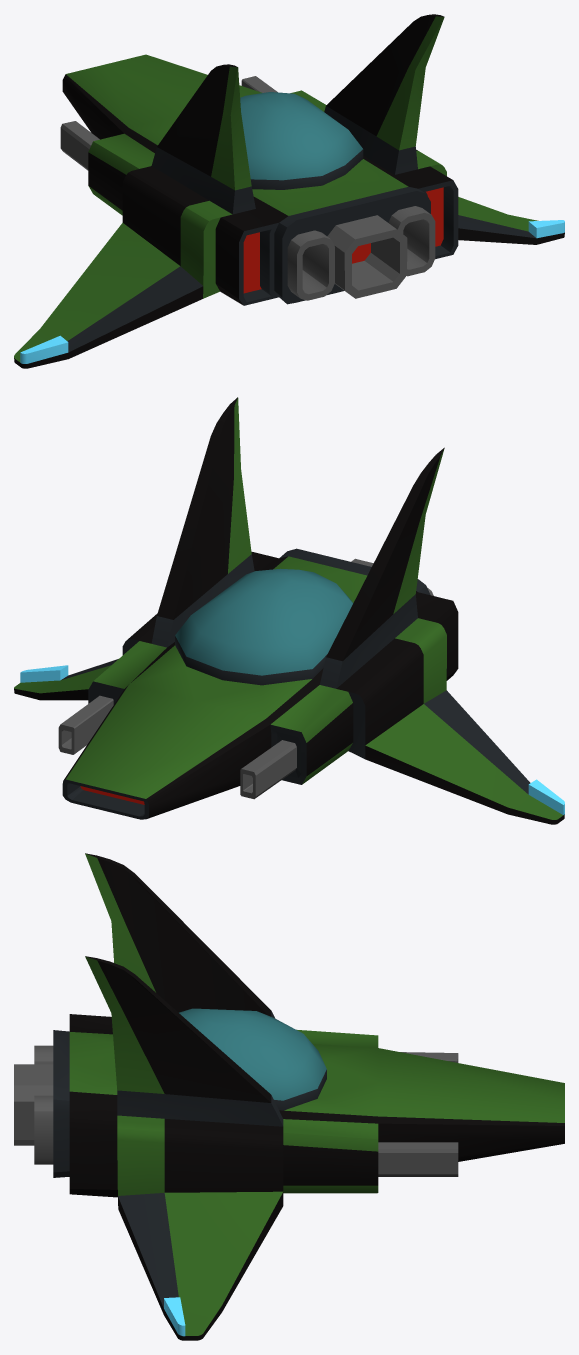
Rendered from Nave protagonista.fbx.
The picture shows the model from 3 angles, top to bottom: view 1: azimuth 30°, elevation 25°; view 2: azimuth 150°, elevation 25°; view 3: azimuth 270°, elevation 25°; orthographic projection.
Parts seen in each view (by area): view 1: Box001; view 2: Box001; view 3: Box001.
Part boxes in pixels (x1=…): Box001: x1=14, y1=14, x2=564, y2=368; Box001: x1=14, y1=397, x2=564, y2=824; Box001: x1=14, y1=853, x2=564, y2=1340.
Size of the model in its own units: 963 by 500 by 829.
